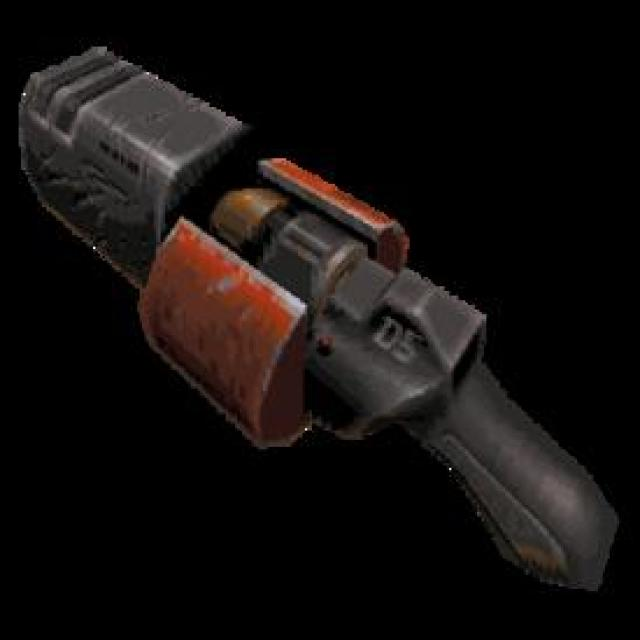weapon: (7, 40, 617, 602)
